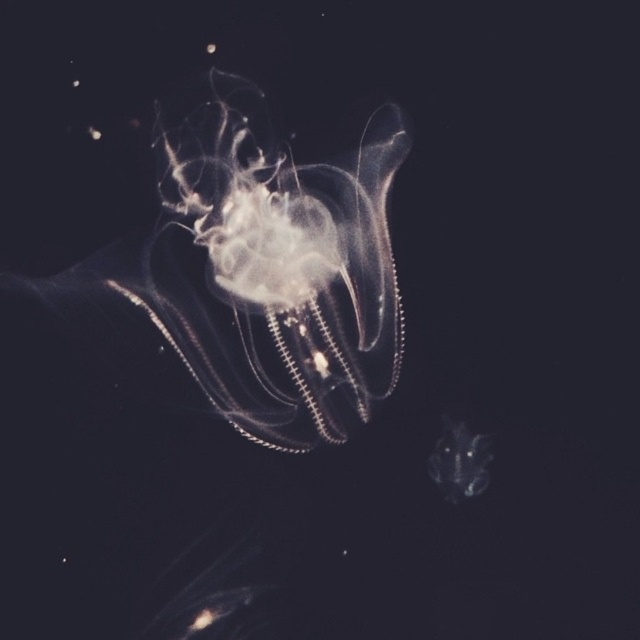Jellyfish: (146, 65, 418, 472)
